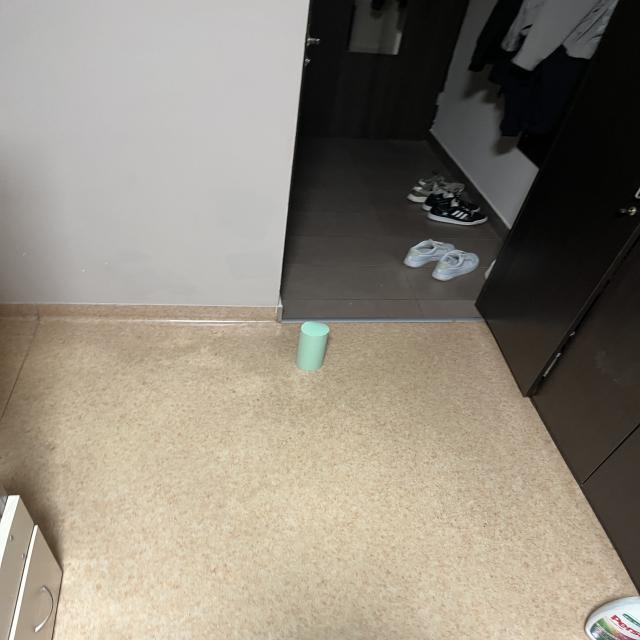meta: (296, 321, 329, 371)
